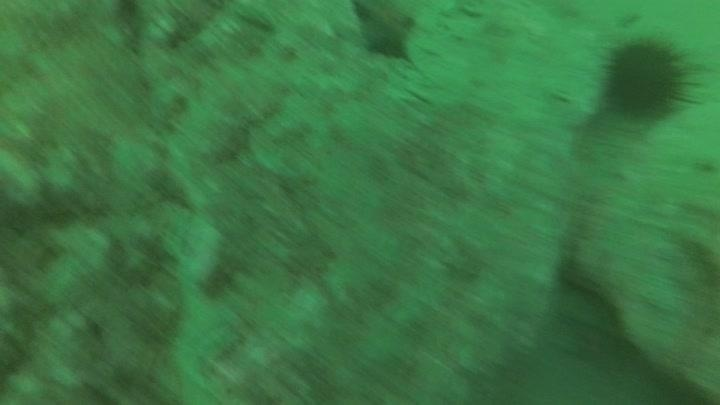echinus: (598, 32, 698, 126)
starfish: (350, 0, 419, 61)
